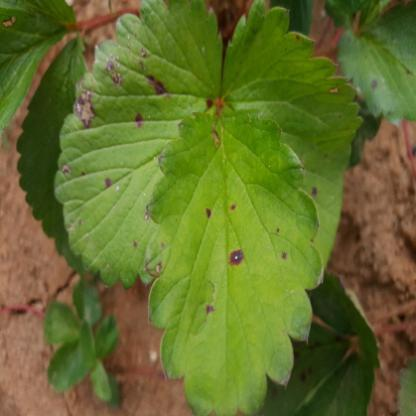Strawberry_Leaf_Spot: (143, 104, 324, 415), (53, 0, 224, 291), (221, 0, 366, 281), (334, 2, 415, 127)
